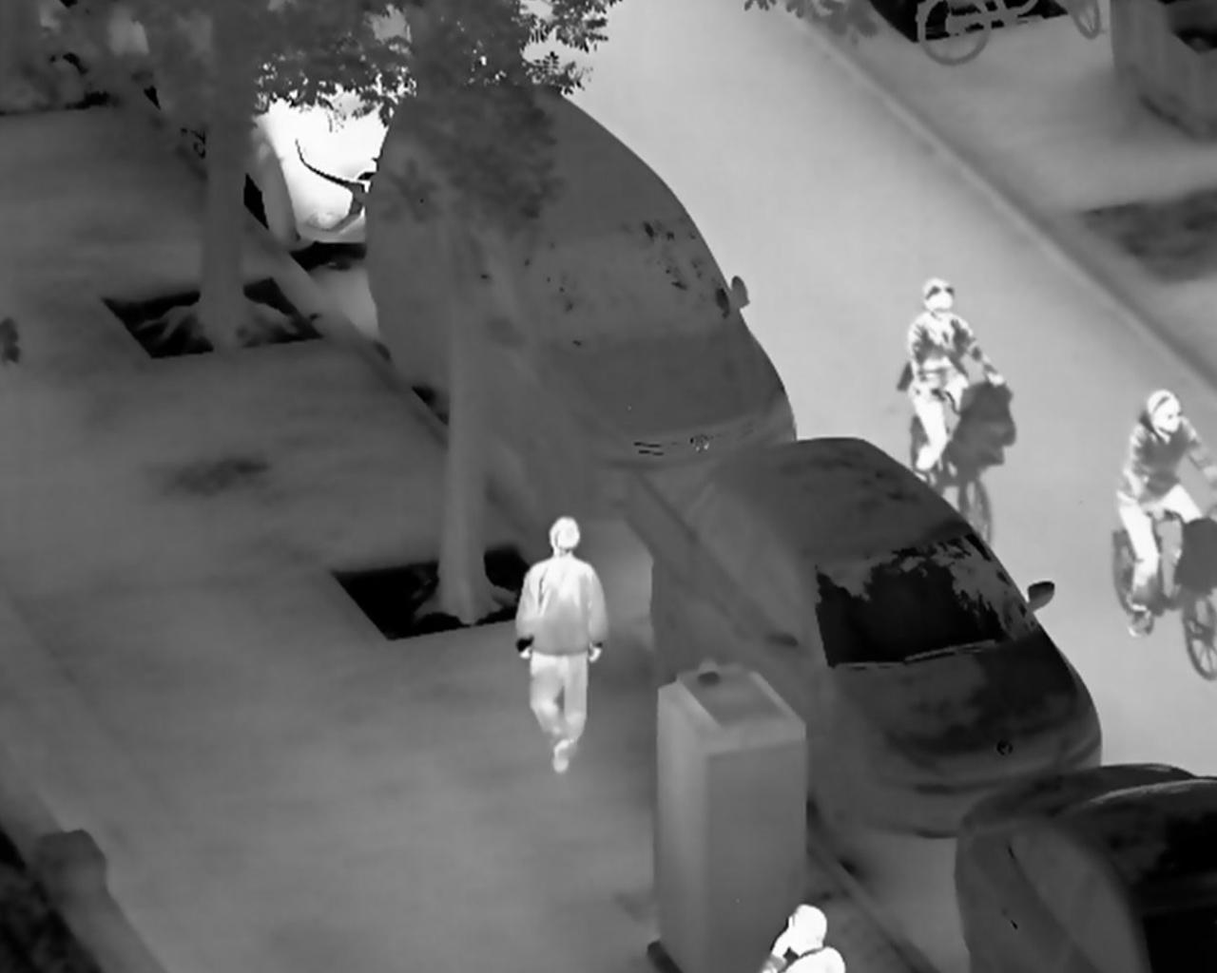person: (512, 515, 610, 776), (1117, 387, 1217, 639), (895, 277, 1012, 489)
